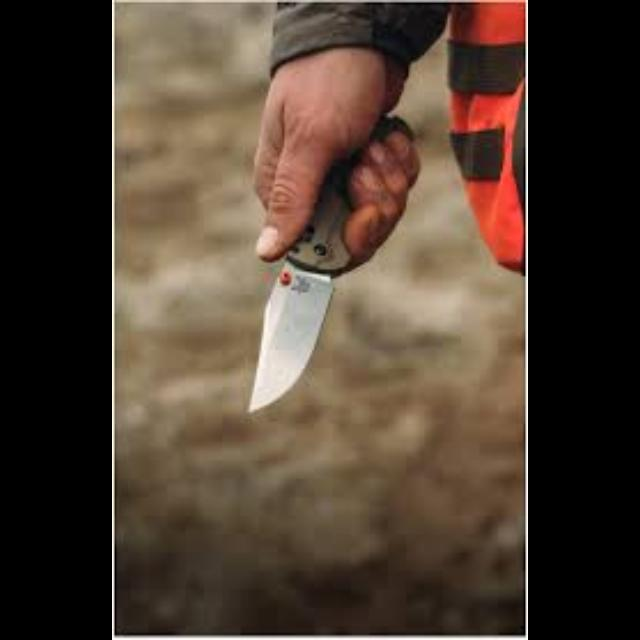Knife: (246, 112, 414, 412)
Person: (228, 14, 528, 448)
Weapon Holding: (253, 67, 414, 259)
